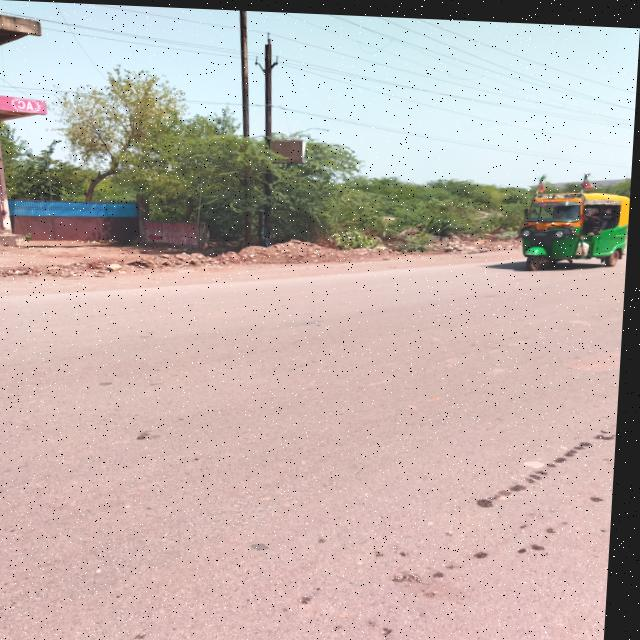plate: (537, 218, 552, 225)
